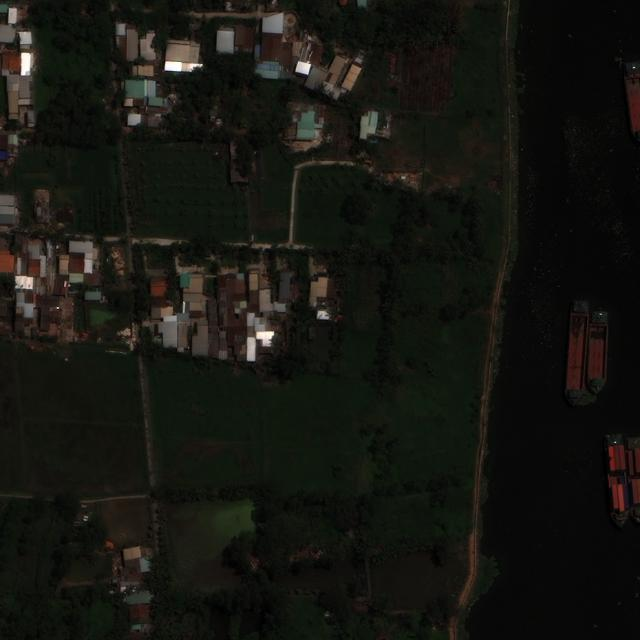Container Ship: (562, 299, 593, 408), (562, 299, 593, 407), (605, 432, 631, 531), (588, 311, 608, 394), (622, 63, 640, 137), (626, 436, 640, 523)
